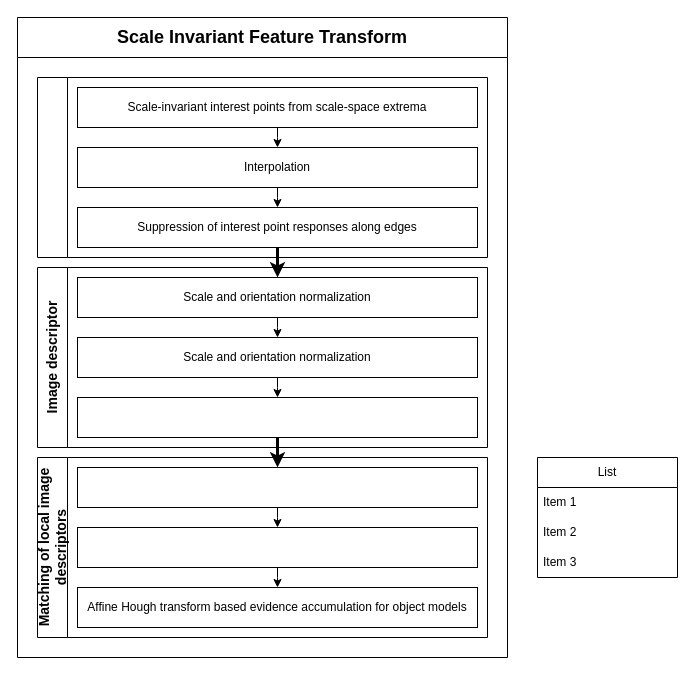
The diagram is 695 pixels wide and 675 high, and some of its shapes have lost their labels. The shapes that lost their labels are listed below. From the top down, each one's centre as x and y in pixels, then its label:
At pixel 262 167: "Interest point detection".
At pixel 277 417: "Contrast normalization".
At pixel 277 487: "Nearest neighbour matching of local image descriptors".
At pixel 277 547: "Best-bin-first approximation for selecting point matches".
